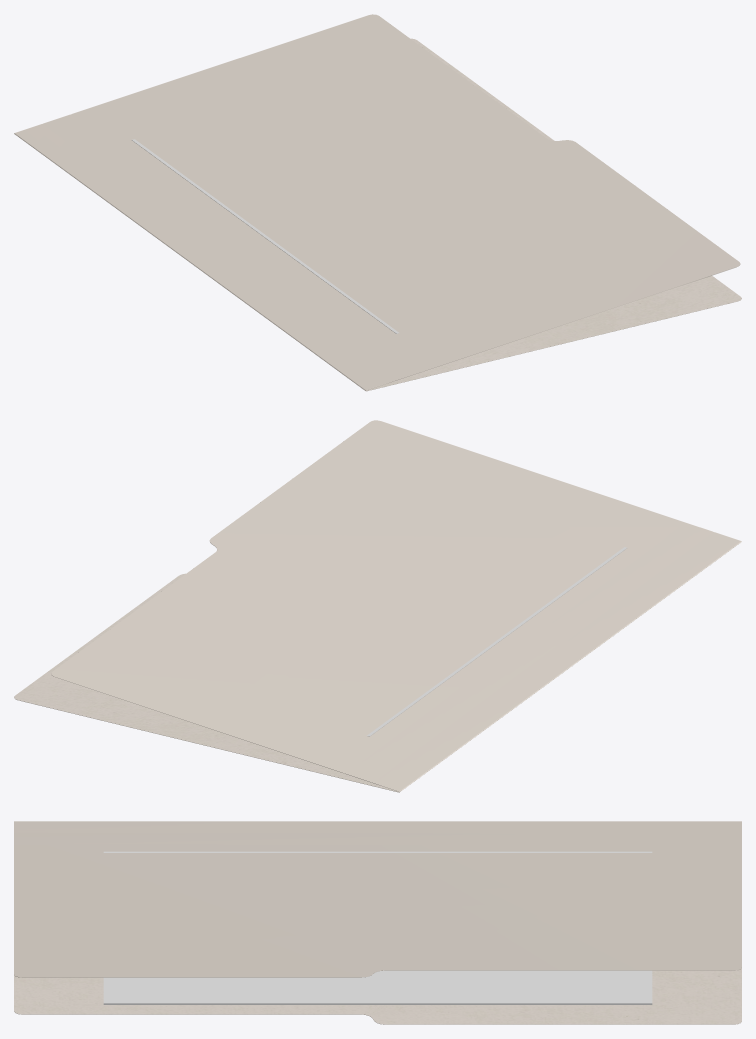
The model's file is Paper_folder.fbx.
3 views of the same model, one above another, from view 1: azimuth 30°, elevation 25°; view 2: azimuth 150°, elevation 25°; view 3: azimuth 270°, elevation 25° (orthographic). The views are drawn at different scales.
Parts seen in each view (by area): view 1: Plane.002, Plane.001, Plane; view 2: Plane.002, Plane.001, Plane; view 3: Plane.002, Plane, Plane.001.
Part boxes in pixels (x1,y1,x2,y2): Plane.002: (14,14,740,390); Plane.001: (366,38,741,391); Plane: (132,139,398,333); Plane.002: (51,420,741,792); Plane.001: (14,573,399,792); Plane: (367,547,626,736); Plane.002: (14,821,741,977); Plane: (103,851,652,1004); Plane.001: (14,968,741,1024).
Size of the model in its own units: 23.93 by 2.03 by 36.5.
Materials: 1 (1 with a texture image).
